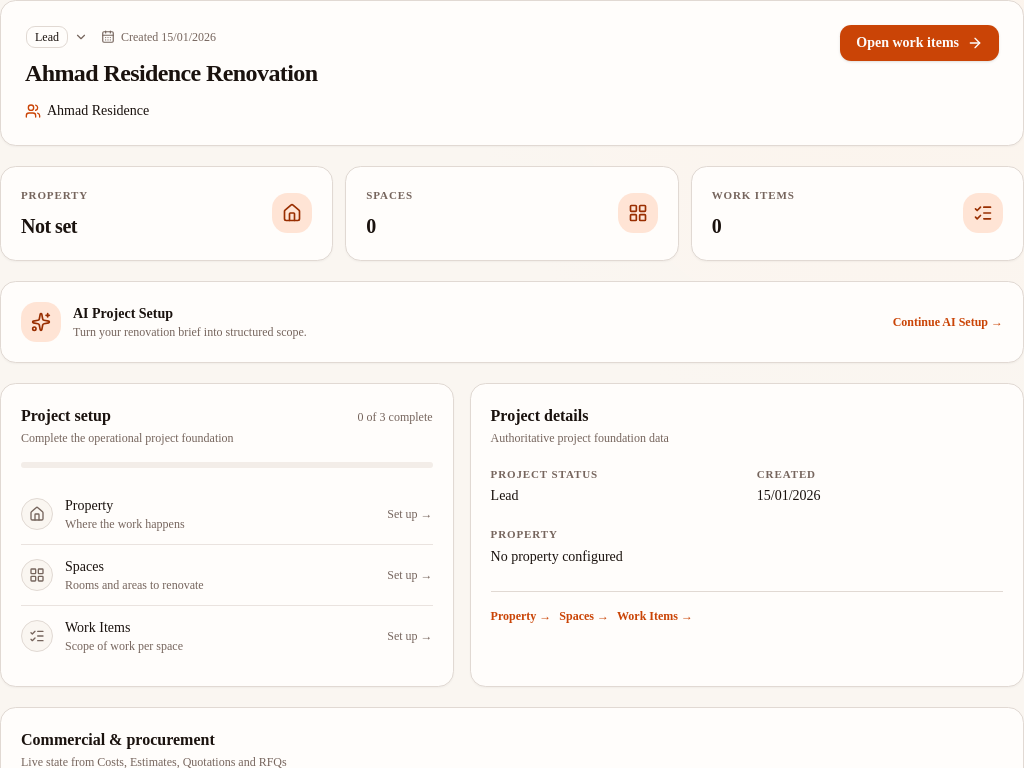
Test case: ProjectOverview › changes status only after explicit confirmation and refreshes status-bearing queries
Click the button with aria-label "change project status, current status lead". click: [57, 37]
box: [25,25,89,49]
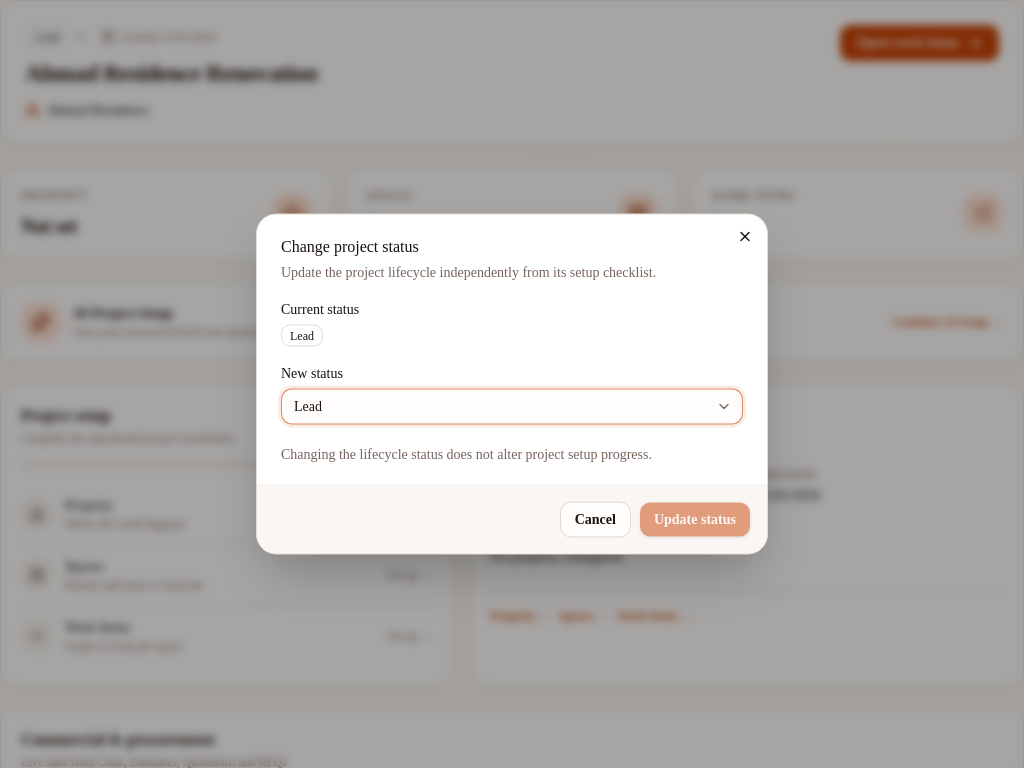
Check: the heading "Change project status" is shown, box [281,238,419,254]
Check: the text "Changing the lifecycle status does not alter project setup progress." is shown, box [281,446,652,462]
Check: the button "Update status" is disabled, box [639,502,751,538]
Click the dropdown named "New status". click: [308, 406]
box: [281,388,743,424]
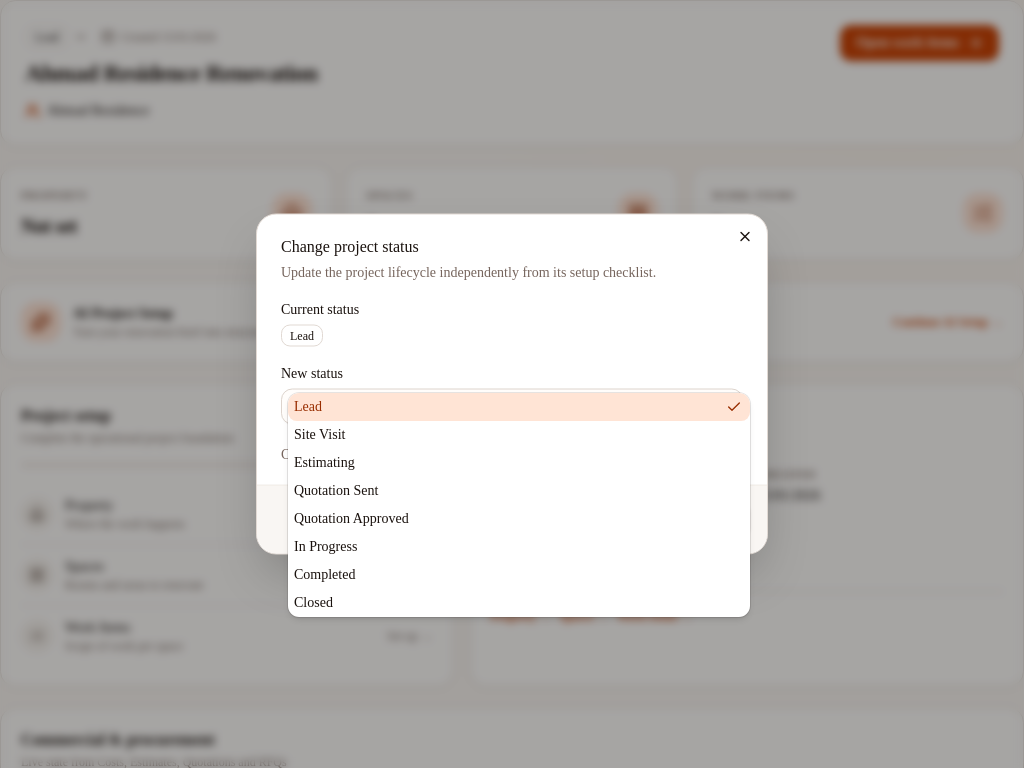
Check: the number of options is 8
Click the option "Completed". click: [325, 574]
box: [294,566,355,582]
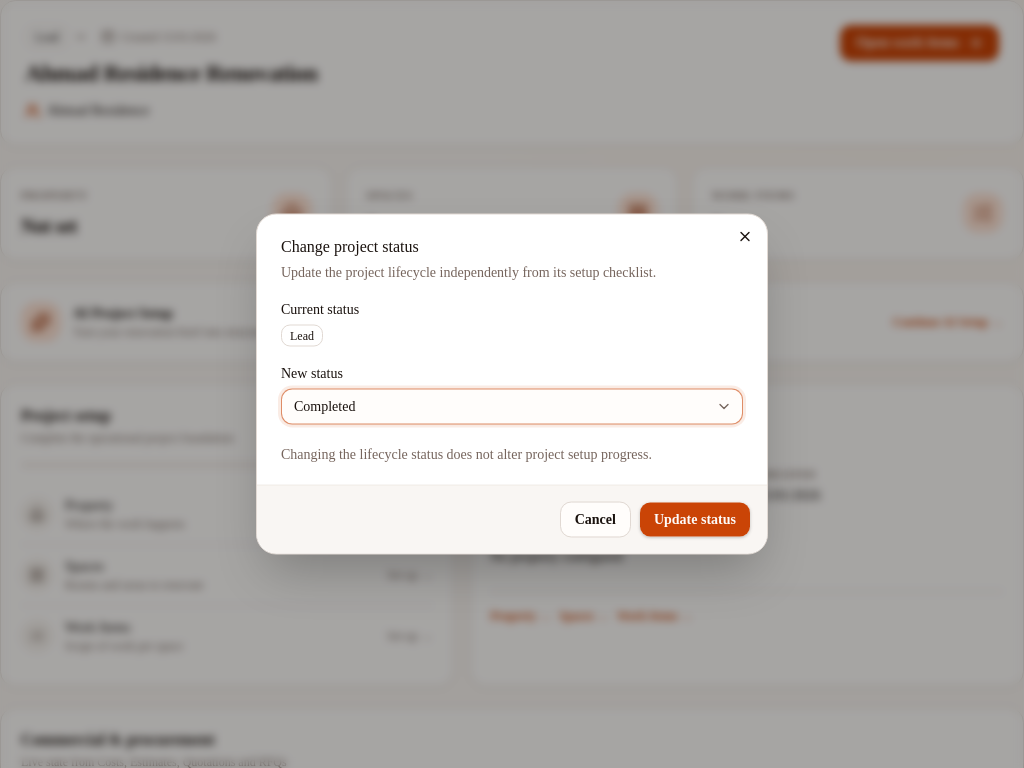
Check: the button "Update status" is enabled
Click the button "Update status". click: [695, 520]
box: [639,502,751,538]
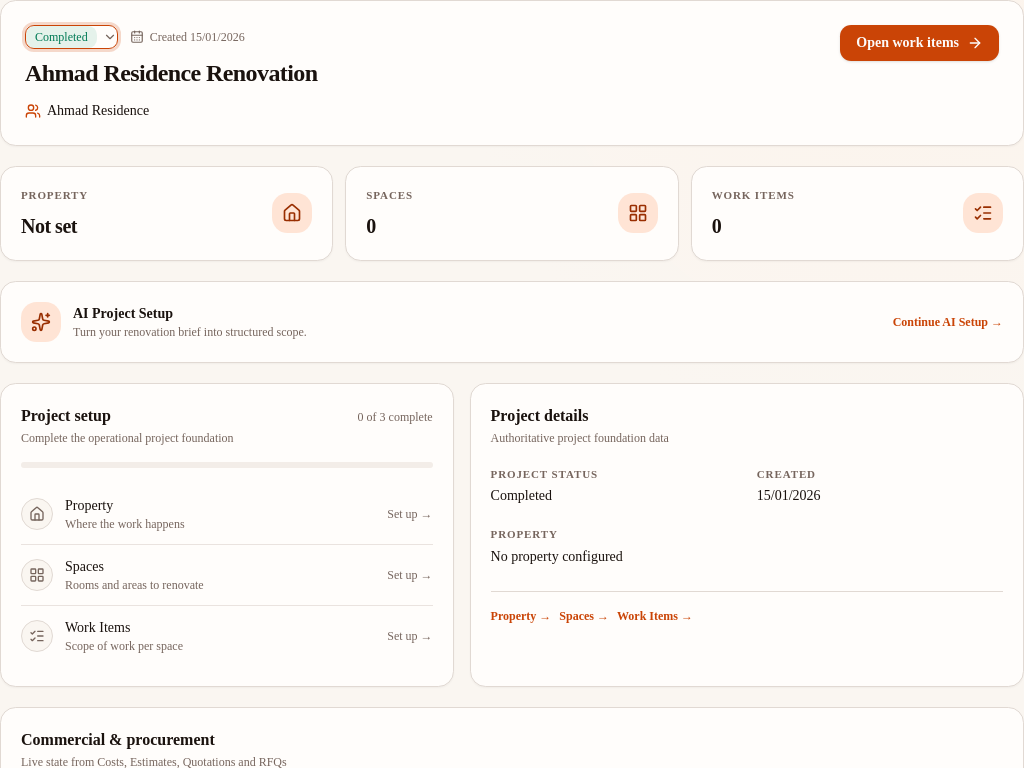
Check: the text "0 of 3 complete" is shown, box [358,408,433,424]
Check: the heading "Change project status" is gone
Check: the button with aria-label "current status completed" is shown, box [25,25,118,49]
